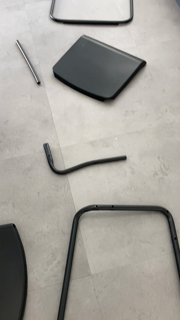L pipe: (41, 139, 130, 180)
Seat: (51, 34, 150, 107)
i pipe: (14, 39, 46, 89)
